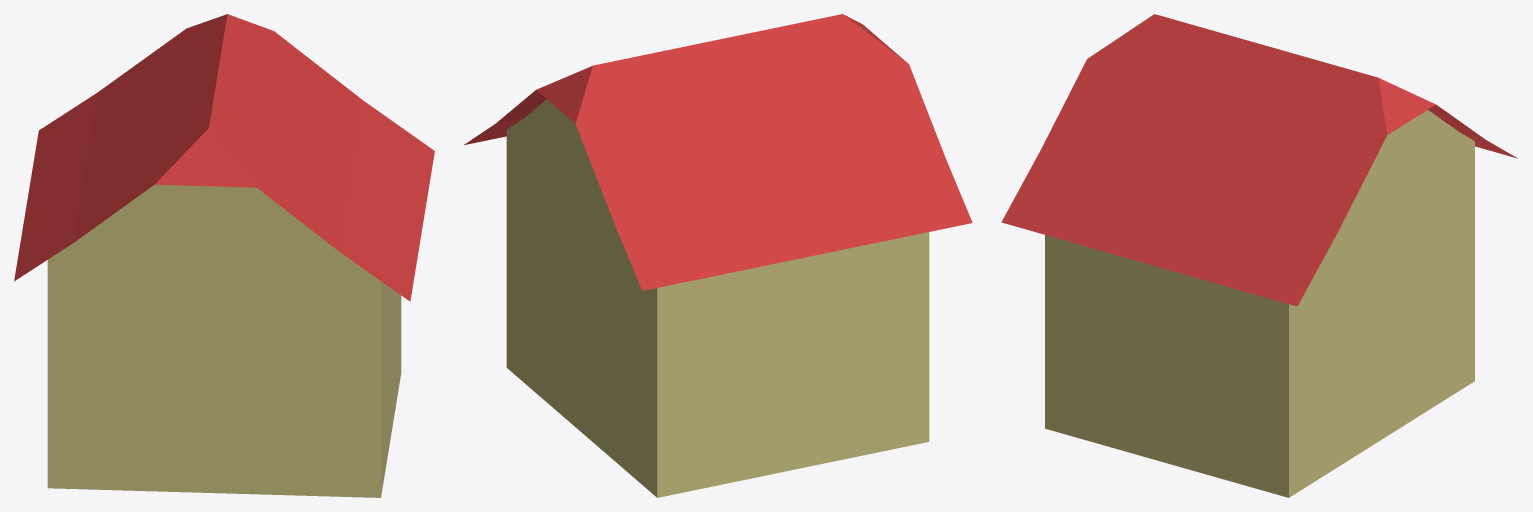
The picture shows the model from 3 angles, left to right: view 1: azimuth 30°, elevation 25°; view 2: azimuth 150°, elevation 25°; view 3: azimuth 270°, elevation 25°; orthographic projection. The views are drawn at different scales.
Size of the model in its own units: 16.72 by 16.38 by 12.49.
